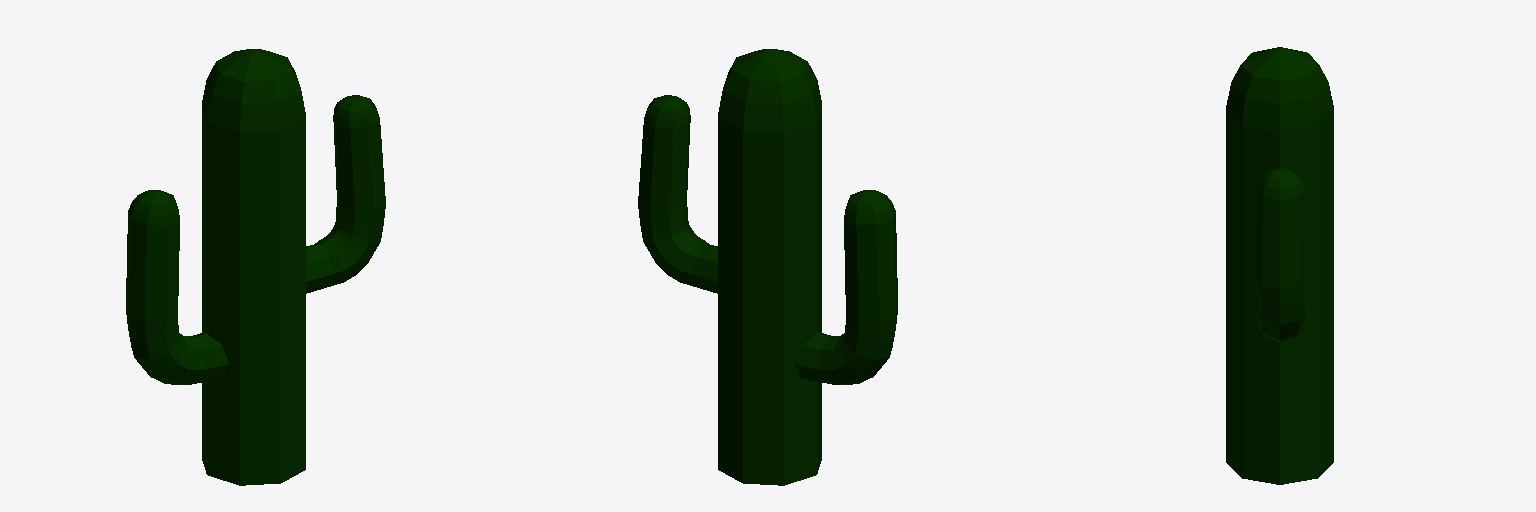
The model's file is cactus.obj.
3 renders of one model, left to right at view 1: azimuth 30°, elevation 25°; view 2: azimuth 150°, elevation 25°; view 3: azimuth 270°, elevation 25°, orthographic.
Parts seen in each view (by area): view 1: Cactusmain1, Cactusarm2, Cactusarm1; view 2: Cactusmain1, Cactusarm2, Cactusarm1; view 3: Cactusmain1, Cactusarm1.
Boxes of the visible parts, x1,y1,x2,y2 form: Cactusmain1: [202, 49, 305, 485]; Cactusarm2: [126, 190, 228, 384]; Cactusarm1: [306, 95, 385, 293]; Cactusmain1: [718, 49, 821, 485]; Cactusarm2: [795, 190, 897, 384]; Cactusarm1: [638, 95, 717, 293]; Cactusmain1: [1226, 47, 1333, 484]; Cactusarm1: [1255, 168, 1304, 342].
Bounding box in the file's own units: 11.12 × 17.26 × 4.1.